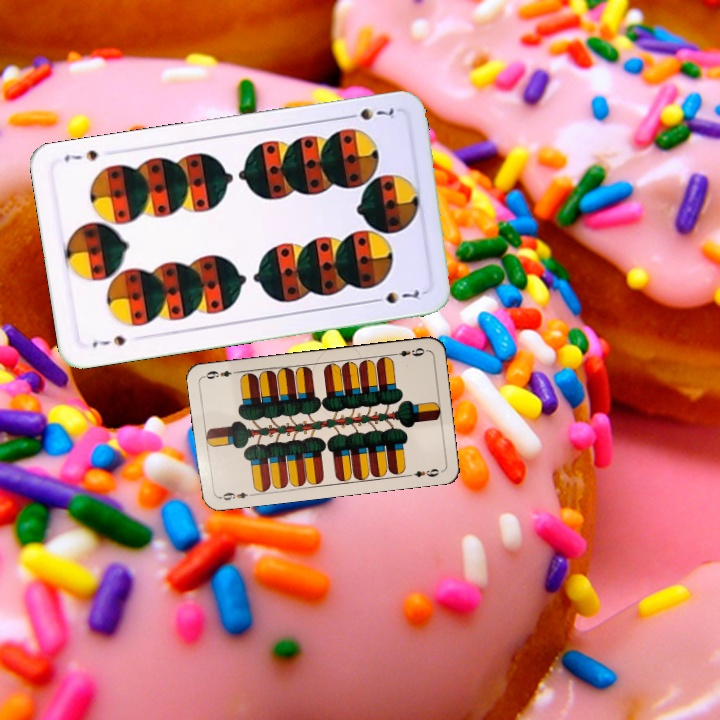E9: (388, 343, 427, 359), (215, 488, 256, 503)
S7: (340, 103, 397, 123), (88, 331, 128, 350)
